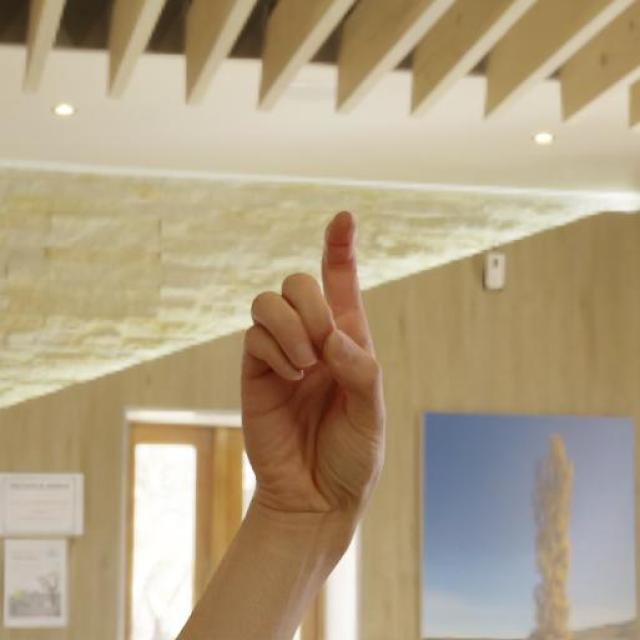X: (177, 210, 422, 601)
